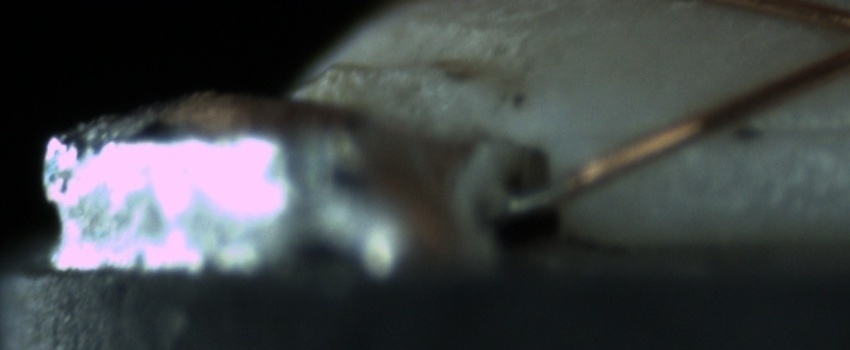DL: (704, 99, 850, 159)
TS: (500, 172, 570, 217)
